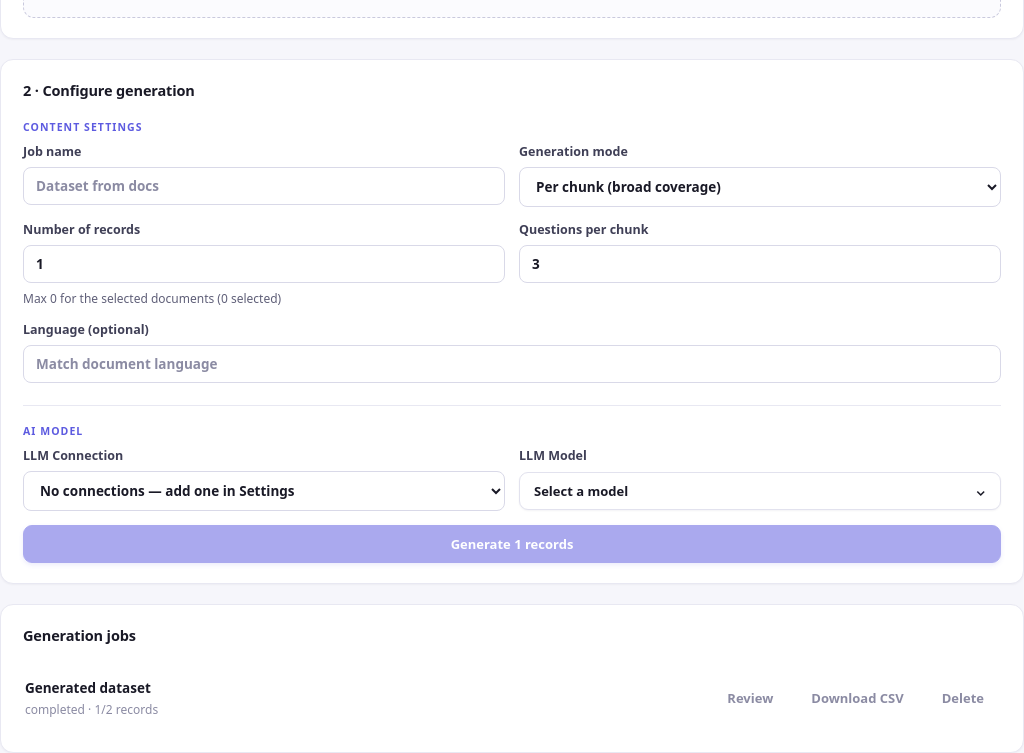
Scenario: GenerateWizard › deletes a finished job after confirmation and refreshes the list
(page scrolled)
Click the button named "Delete generation job Generated dataset" at (963, 699), box [927, 682, 999, 715]
(page scrolled)
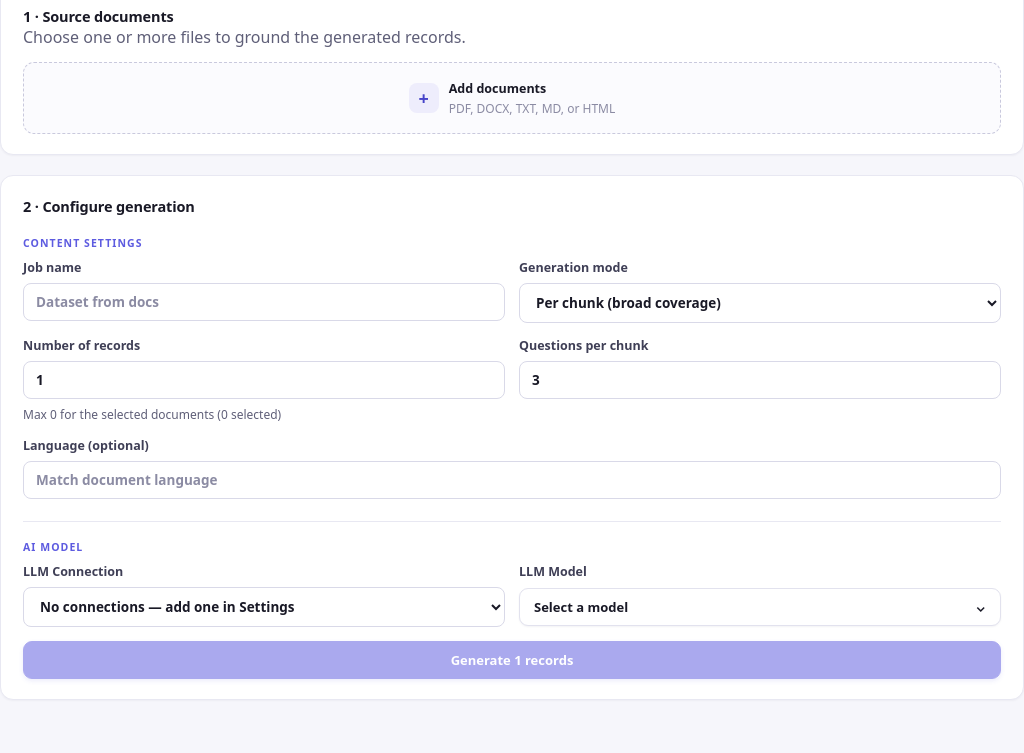
Result: the text "Generated dataset" is gone
